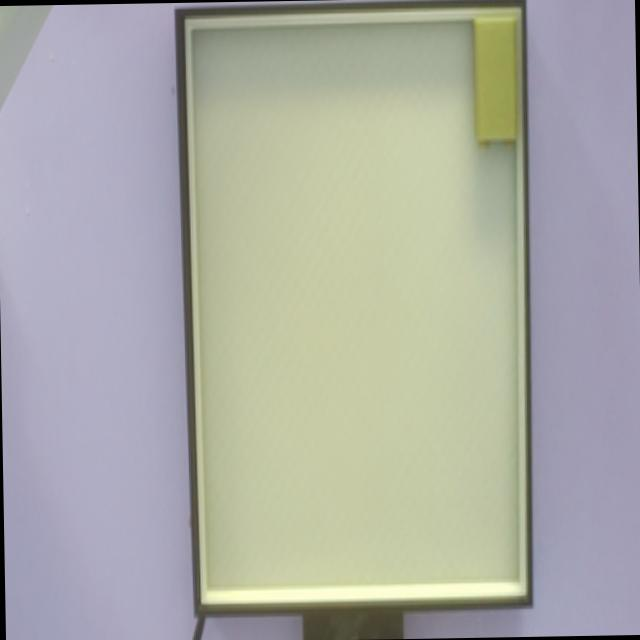bateria: (473, 17, 517, 149)
mesa: (174, 0, 532, 618)
